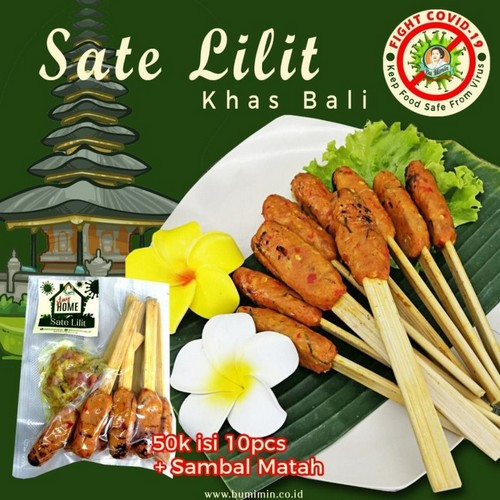sate lilit: (290, 184, 500, 414)
